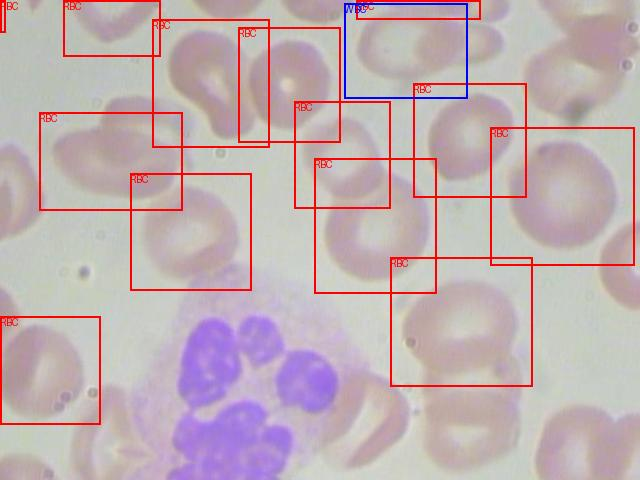RBC: (490, 127, 634, 265), (390, 257, 532, 386), (314, 158, 436, 293), (152, 19, 269, 147), (130, 173, 251, 290), (39, 112, 182, 210), (413, 83, 526, 197), (238, 27, 340, 142), (0, 316, 100, 424), (294, 101, 390, 208), (63, 0, 160, 56), (356, 0, 480, 19), (0, 0, 5, 32)
WBC: (344, 3, 467, 98)
